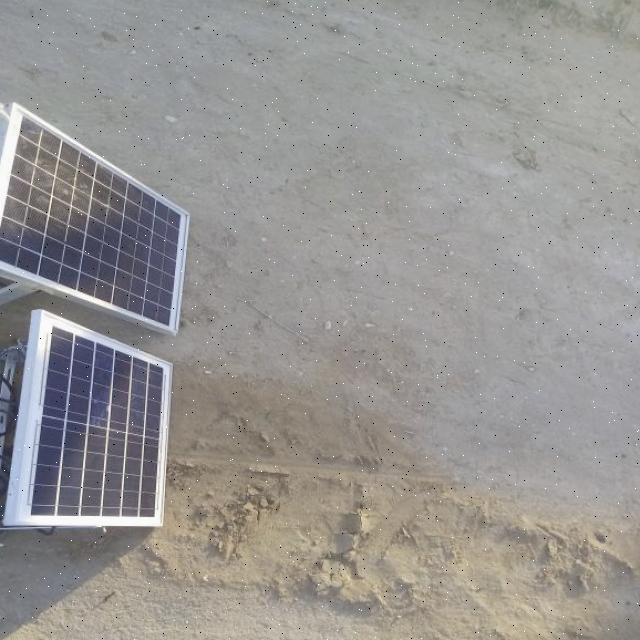Normal Solar Panel: (0, 104, 191, 332), (13, 312, 172, 524)
